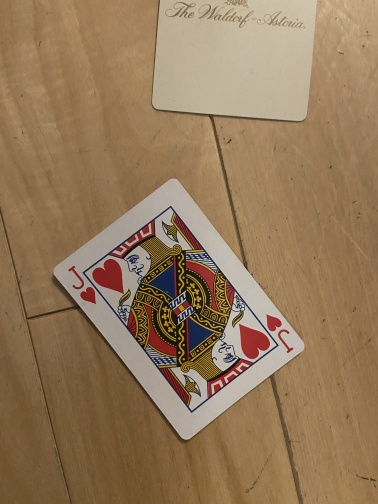jack: (51, 176, 306, 443)
